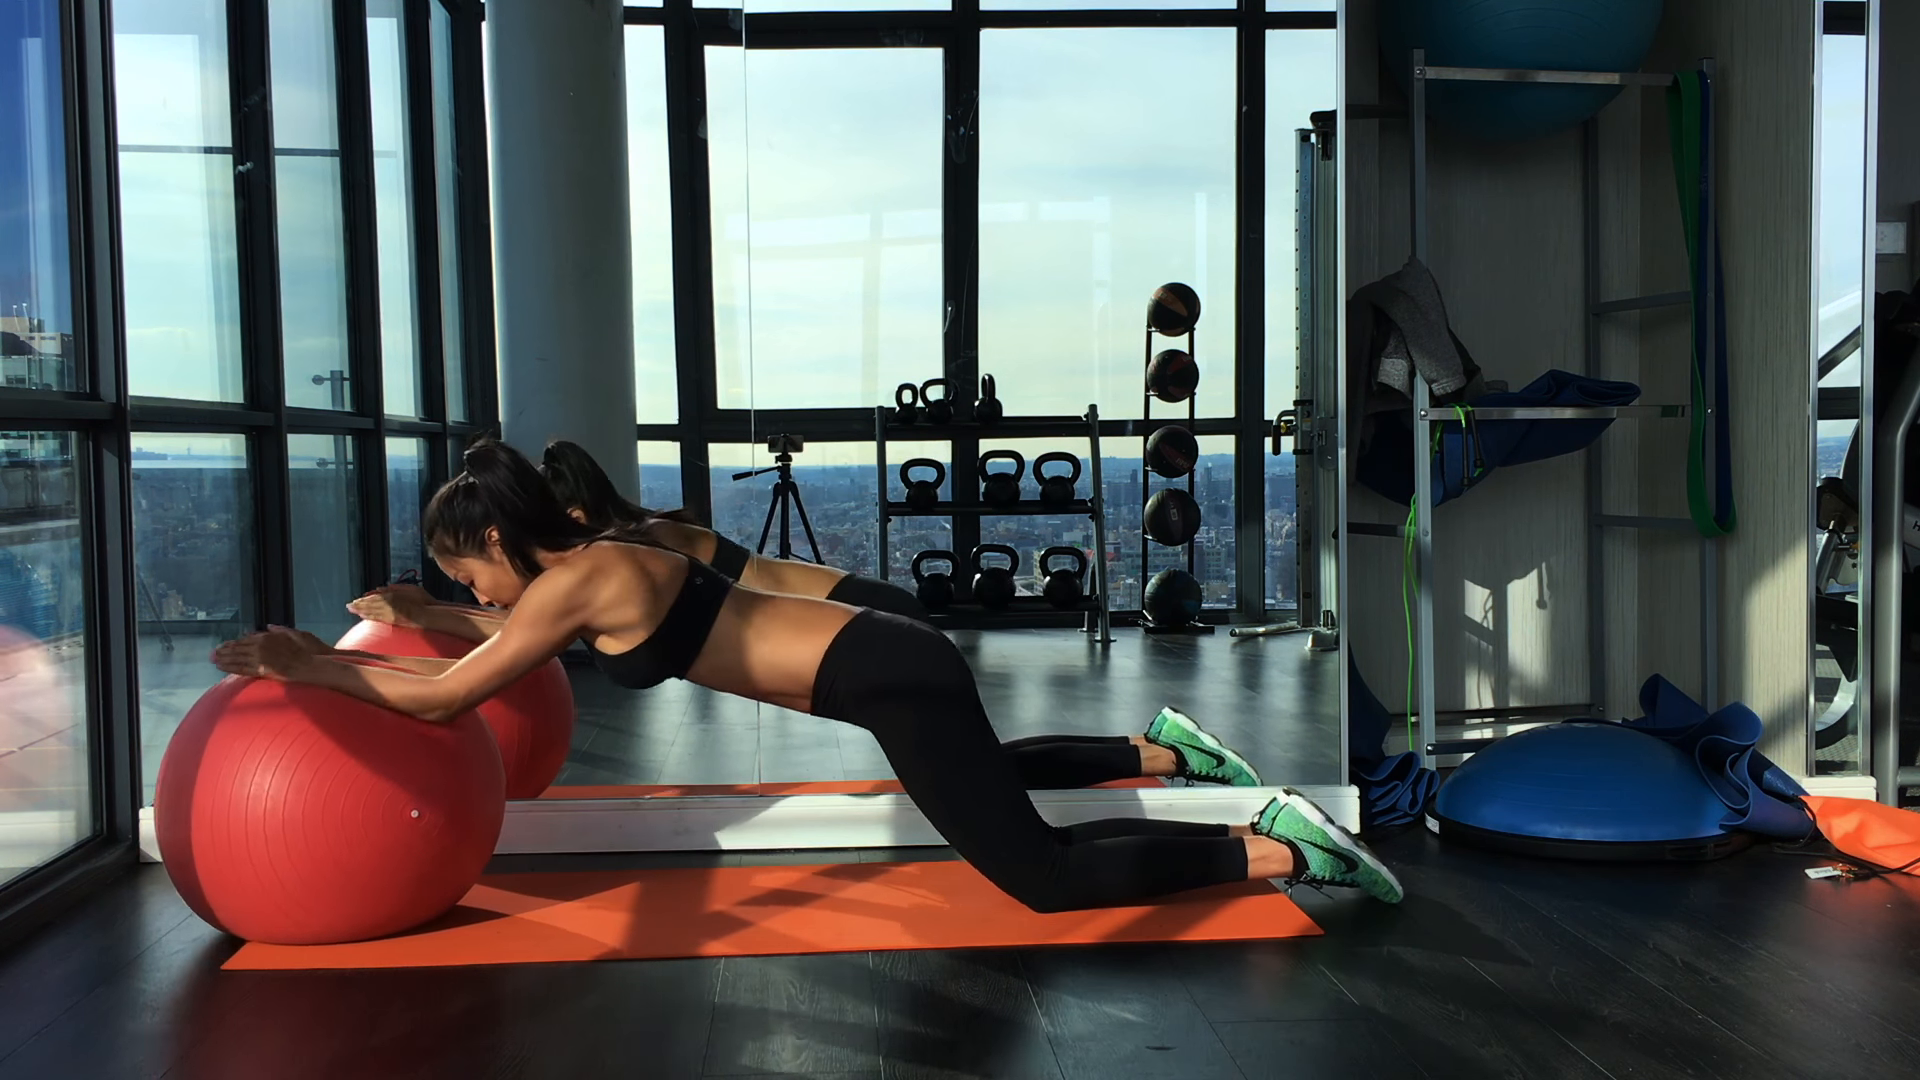yogaball: (152, 644, 512, 953)
